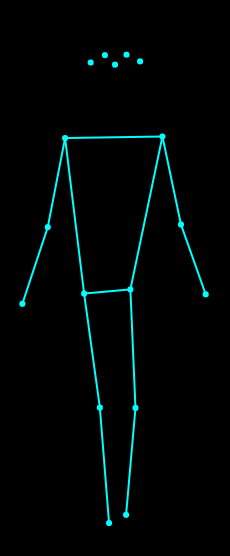mountain: (16, 46, 212, 530)
